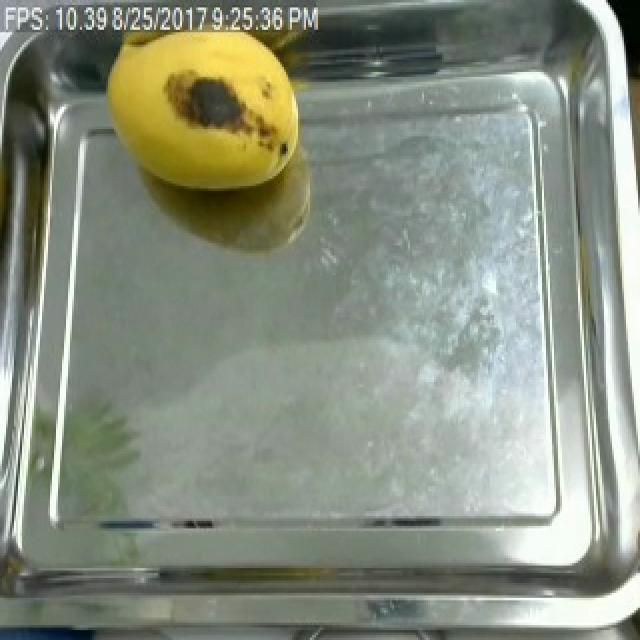fruit: (94, 30, 310, 206)
